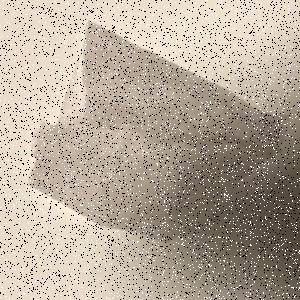Trash: (28, 21, 292, 243)
